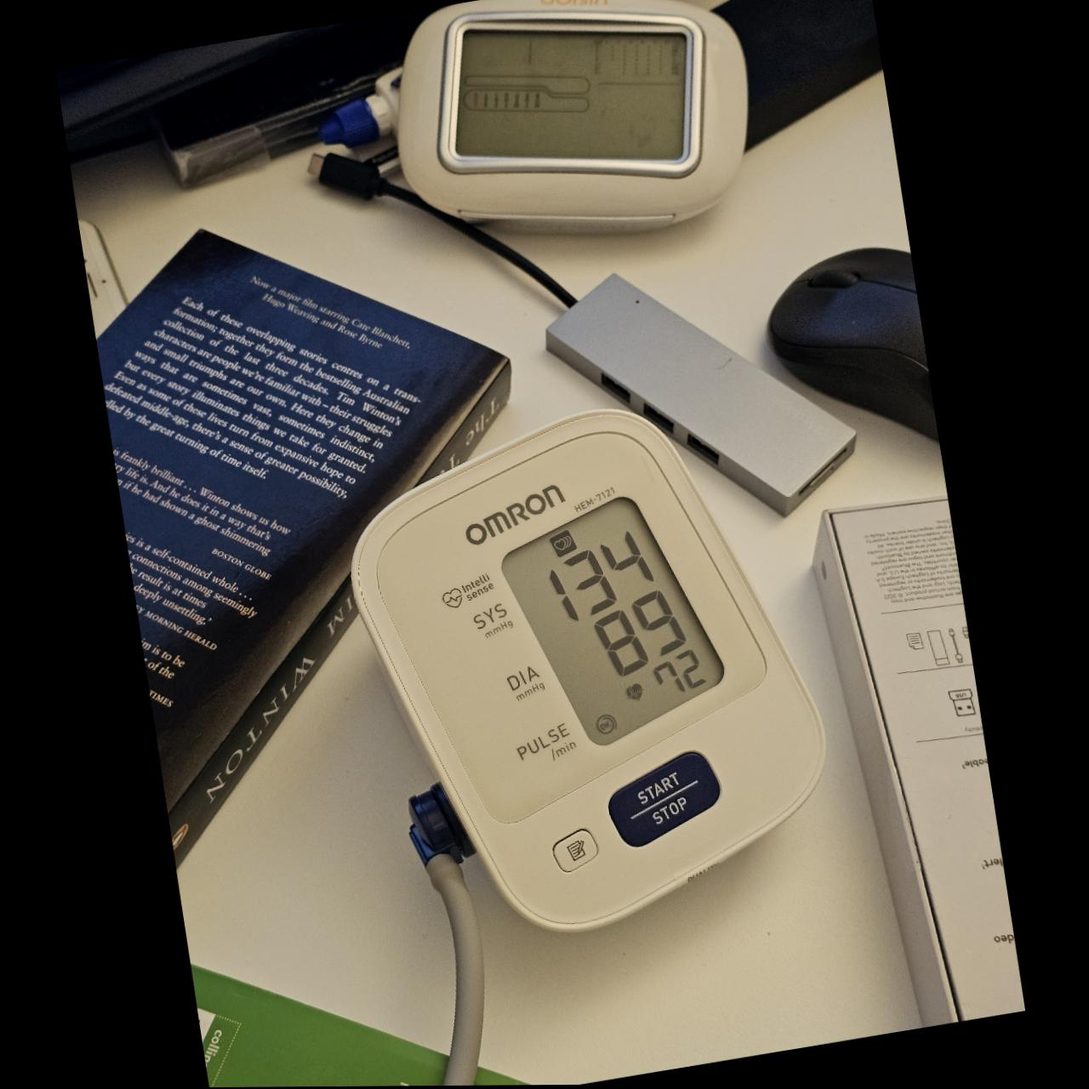lcd display: (487, 474, 738, 765), (436, 0, 705, 195)
